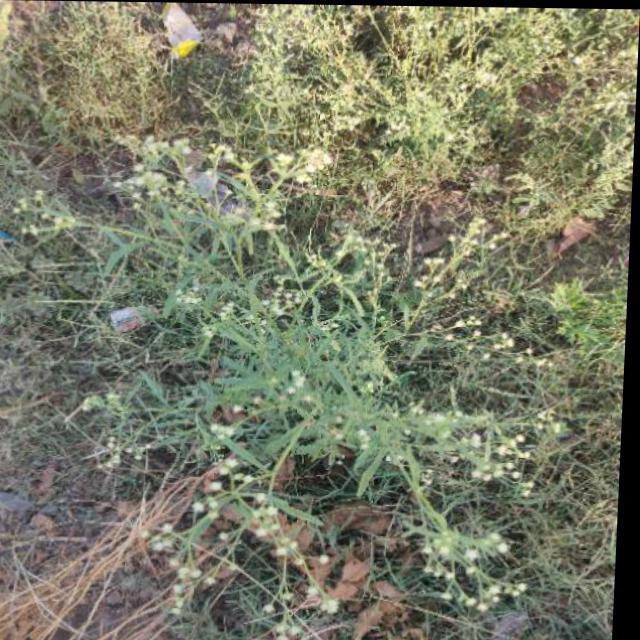weed: (76, 210, 597, 607), (74, 9, 636, 191)
